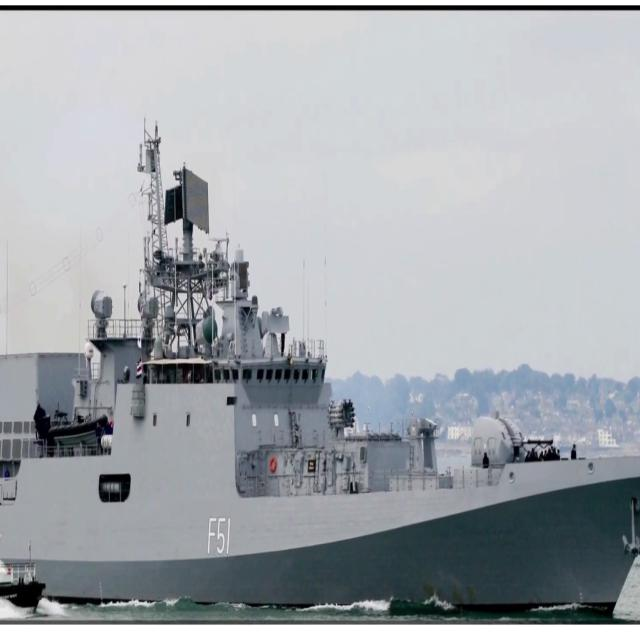OCR: (201, 510, 235, 563)
